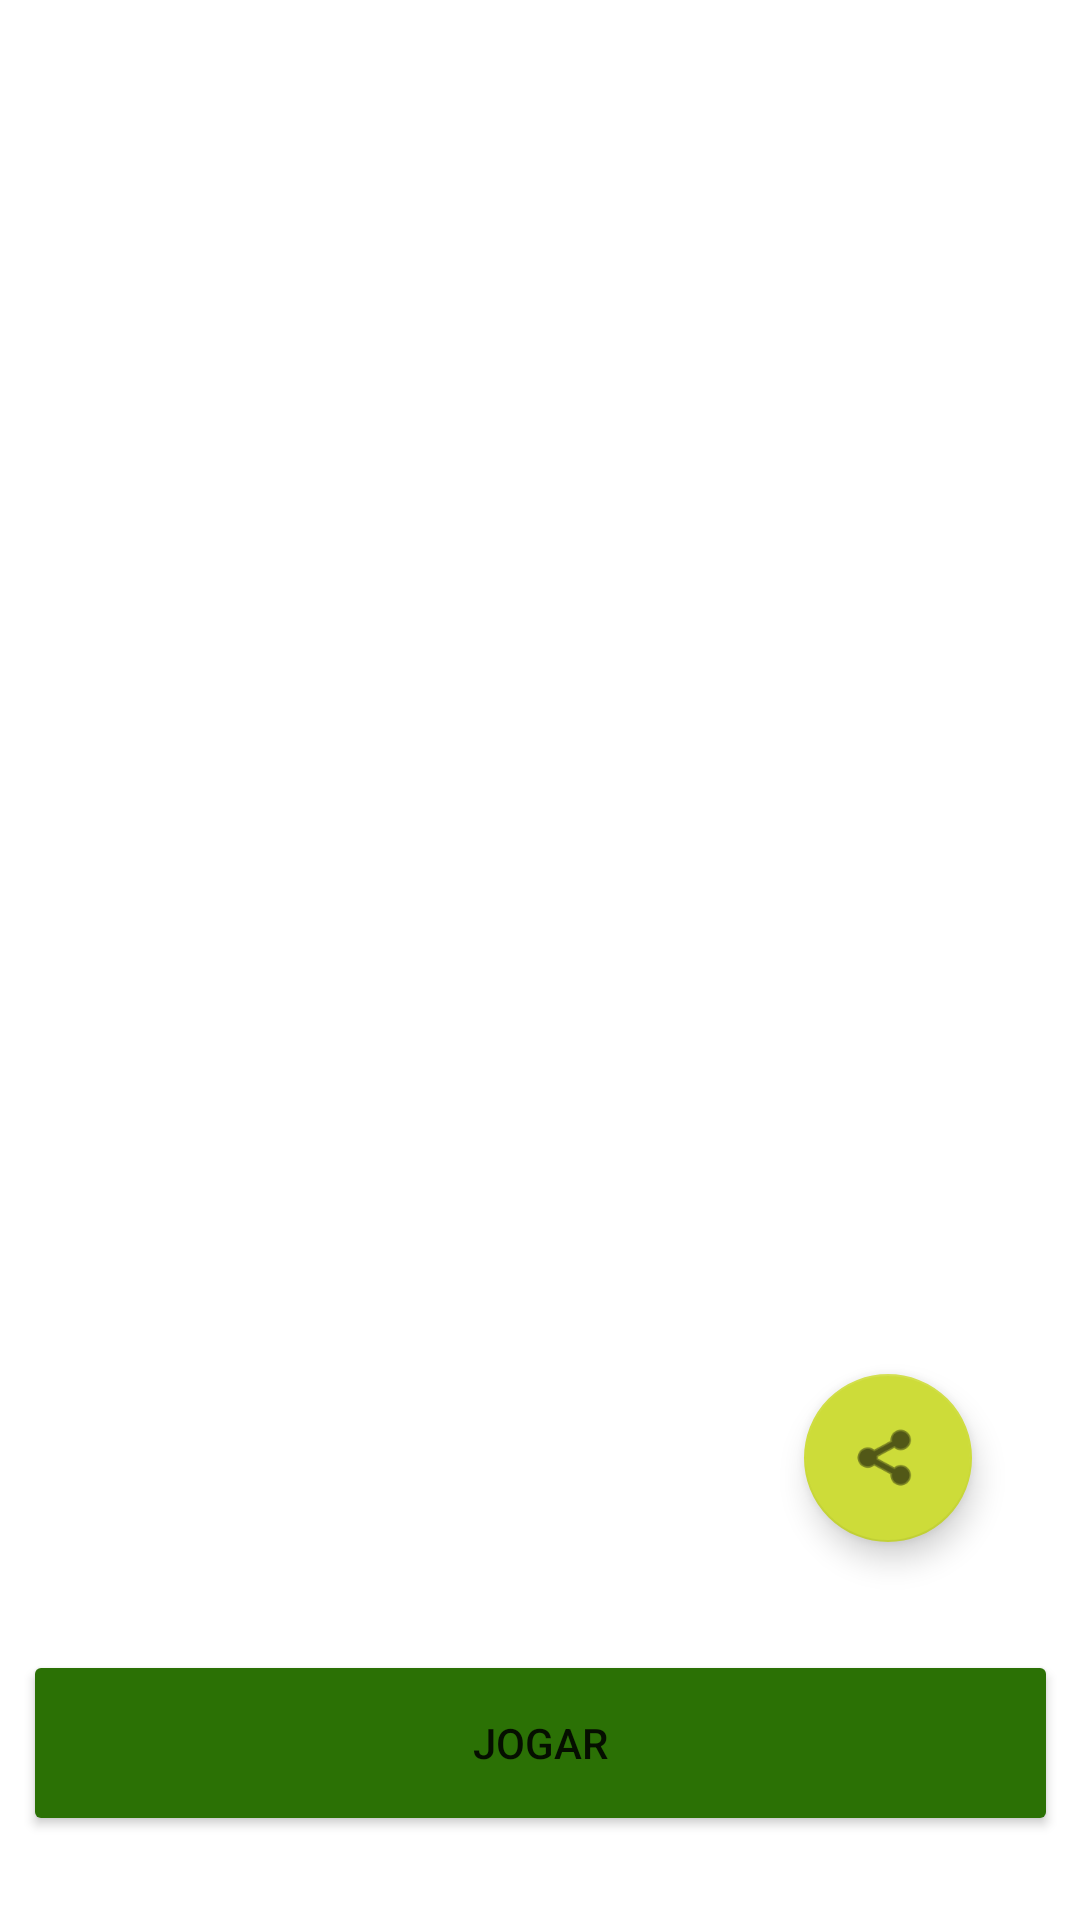

Icon bounding boxes for this 1080w x 1920h phone screenshot, format region(x1, y1, x2, y2):
share: region(804, 1374, 972, 1542)
